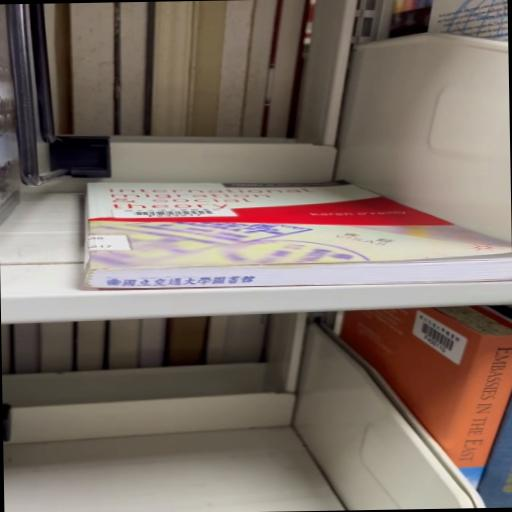flat: (85, 182, 512, 290)
